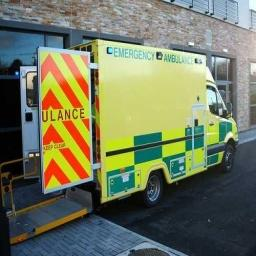Ambulance: (0, 40, 237, 243)
